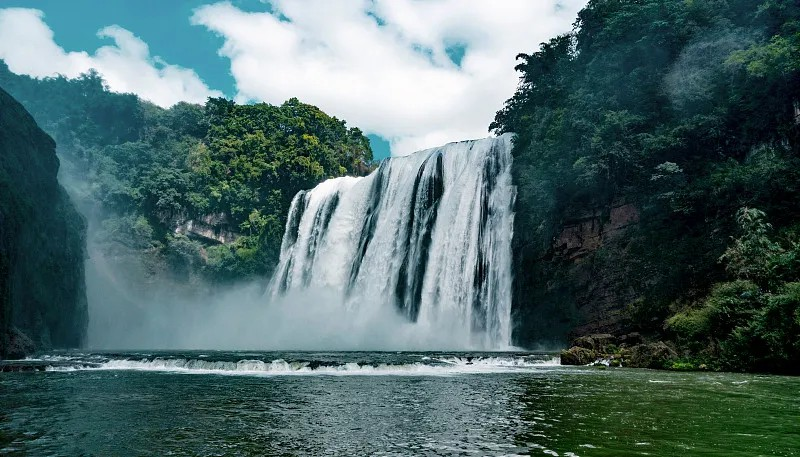Huangguoshu: (270, 132, 512, 352)
